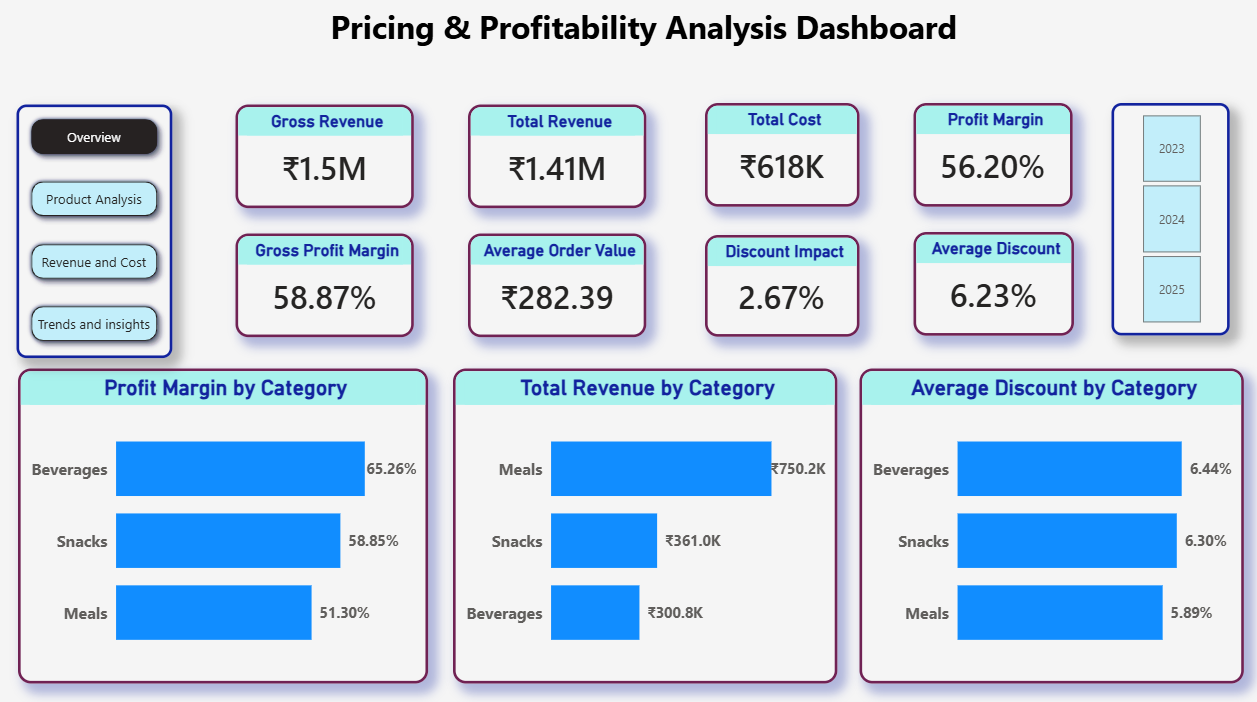

Layout of this report page (visuals, bound fields, positions):
{"tool":"powerbi","page":{"name":"Overview","canvas":[1280,720],"ordinal":0},"visuals":[{"type":"cardVisual","title":"Total Revenue","fields":{"Data":["tastybites_orders.Total Revenue"]},"box":[478.5,113.6,180.2,104.5],"z":0},{"type":"cardVisual","title":"Total Cost","fields":{"Data":["tastybites_orders.Total Cost"]},"box":[717.7,112.1,156,104.5],"z":1000},{"type":"cardVisual","title":"Profit Margin","fields":{"Data":["tastybites_orders.Profit Margin"]},"box":[928.2,112.1,160.5,104.5],"z":2000},{"type":"cardVisual","title":"Average Discount","fields":{"Data":["tastybites_orders.Average Discount"]},"box":[928.2,242.3,162,104.5],"z":4000},{"type":"cardVisual","title":"Average Order Value","fields":{"Data":["tastybites_orders.Average Order Value"]},"box":[478.5,243.8,180.2,104.5],"z":5000},{"type":"cardVisual","title":"Discount Impact","fields":{"Data":["tastybites_orders.Discount Impact"]},"box":[717.7,245.3,156,103],"z":9000},{"type":"clusteredBarChart","fields":{"Category":["tastybites_orders.Category","tastybites_orders.ProductName"],"Y":["tastybites_orders.Profit Margin"]},"box":[24,380,414,318],"z":10000},{"type":"clusteredBarChart","fields":{"Category":["tastybites_orders.Category","tastybites_orders.ProductName"],"Y":["tastybites_orders.Total Revenue"]},"box":[464,380,388,318],"z":11000},{"type":"clusteredBarChart","fields":{"Category":["tastybites_orders.Category","tastybites_orders.ProductName"],"Y":["tastybites_orders.Average Discount"]},"box":[874,380,388,318],"z":12000},{"type":"pageNavigator","box":[22.7,113.6,157.5,255.9],"z":13000},{"type":"textbox","box":[334.6,7.6,793.4,69.7],"z":14000},{"type":"slicer","fields":{"Values":["tastybites_orders.OrderDate.Variation.Date Hierarchy.Year"]},"box":[1128.1,112.1,119.6,234.7],"z":14002},{"type":"cardVisual","title":"Gross Revenue","fields":{"Data":["tastybites_orders.Total Gross Revenue"]},"box":[243.8,113.6,180.2,104.5],"z":14003},{"type":"cardVisual","title":"Gross Profit Margin","fields":{"Data":["tastybites_orders.Gross Profit Margin"]},"box":[243.8,243.8,180.2,104.5],"z":14004}]}

Visuals, with their boxes in screenshot pixels (x1, y1, x2, y2), scaled from the page's 1280x720 canvas onto the 1257x702 screenshot:
"Total Revenue" cardVisual: 470, 111, 647, 213
"Total Cost" cardVisual: 705, 109, 858, 211
"Profit Margin" cardVisual: 912, 109, 1069, 211
"Average Discount" cardVisual: 912, 236, 1071, 338
"Average Order Value" cardVisual: 470, 238, 647, 340
"Discount Impact" cardVisual: 705, 239, 858, 340
clusteredBarChart - tastybites_orders.Category x tastybites_orders.ProductName: 24, 370, 430, 681
clusteredBarChart - tastybites_orders.Category x tastybites_orders.ProductName: 456, 370, 837, 681
clusteredBarChart - tastybites_orders.Category x tastybites_orders.ProductName: 858, 370, 1239, 681
pageNavigator: 22, 111, 177, 360
textbox: 329, 7, 1108, 75
slicer - tastybites_orders.OrderDate.Variation.Date Hierarchy.Year: 1108, 109, 1225, 338
"Gross Revenue" cardVisual: 239, 111, 416, 213
"Gross Profit Margin" cardVisual: 239, 238, 416, 340
